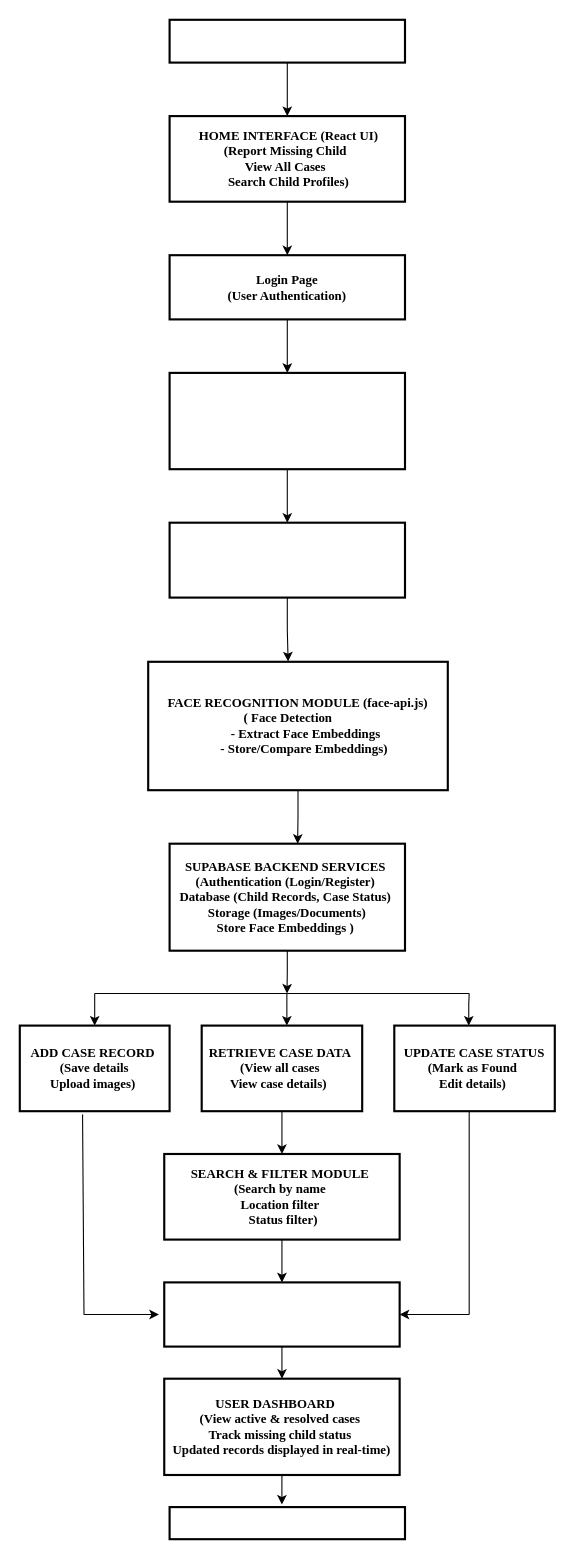
The diagram is 574 pixels wide and 1558 high, and some of its shapes have lost their labels. Here are the shapes that lost their labels. From the top down, the centre of each, then its label:
At point (287, 40): "Start".
At point (287, 420): "FORM / DATA INPUT MODULE (Child Details Entry Image Upload Contact Information)".
At point (287, 559): "VALIDATION & PRE-PROCESSING (Field Verification Case ID Generation)".
At point (281, 1314): "DISPLAY RESULTS (Results the Case details)".
At point (287, 1522): "Exit".
